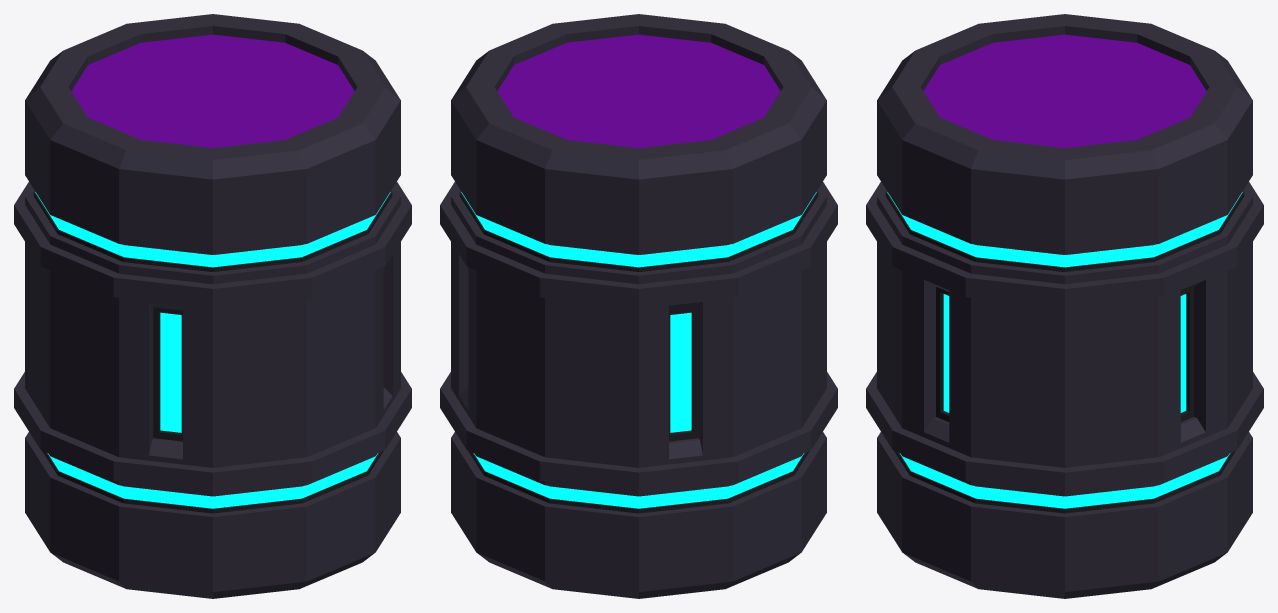
Rendered from SM_Industrial_Barrel.fbx.
The picture shows the model from 3 angles, left to right: view 1: azimuth 30°, elevation 25°; view 2: azimuth 150°, elevation 25°; view 3: azimuth 270°, elevation 25°; orthographic projection.
Visible parts, largest first — view 1: SM_Industrial_Barrel; view 2: SM_Industrial_Barrel; view 3: SM_Industrial_Barrel.
Part boxes in pixels (x1=…): SM_Industrial_Barrel: x1=14, y1=14, x2=411, y2=598; SM_Industrial_Barrel: x1=440, y1=14, x2=837, y2=598; SM_Industrial_Barrel: x1=866, y1=14, x2=1263, y2=598.
Size of the model in its own units: 62.89 by 76.58 by 62.89.
